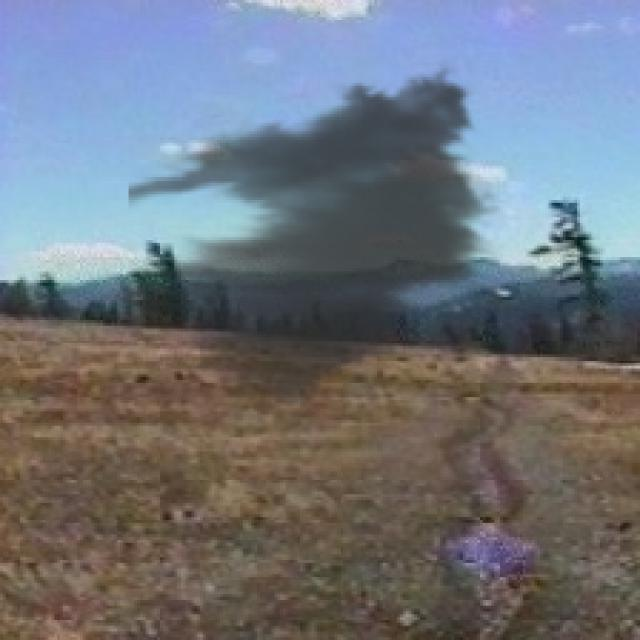Smoke: (128, 57, 506, 417)
